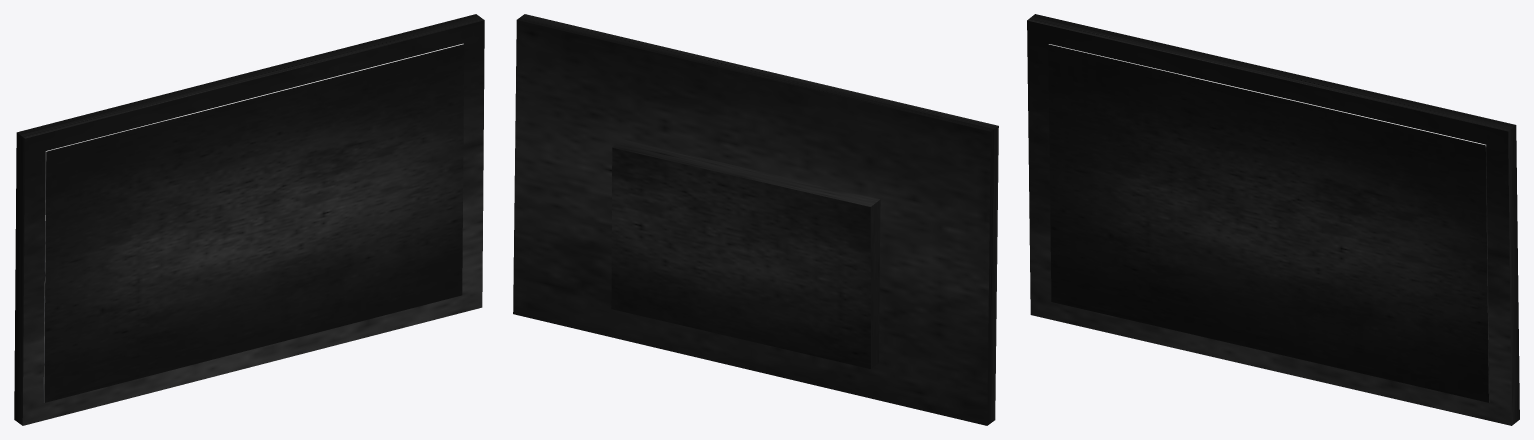
File: Monitoooor.obj
The picture shows the model from 3 angles, left to right: view 1: azimuth 30°, elevation 25°; view 2: azimuth 150°, elevation 25°; view 3: azimuth 330°, elevation 25°; orthographic projection. The views are drawn at different scales.
Parts seen in each view (by area): view 1: Cube.002, Cube; view 2: Cube, Cube.001; view 3: Cube.002, Cube.
Boxes of the visible parts, x1,y1,x2,y2 form: Cube.002: (43,43,464,402); Cube: (14,14,484,425); Cube: (513,14,998,425); Cube.001: (611,139,880,368); Cube.002: (1048,44,1489,402); Cube: (1027,14,1519,425).
Size of the model in its own units: 3.24 by 1.93 by 0.287.
